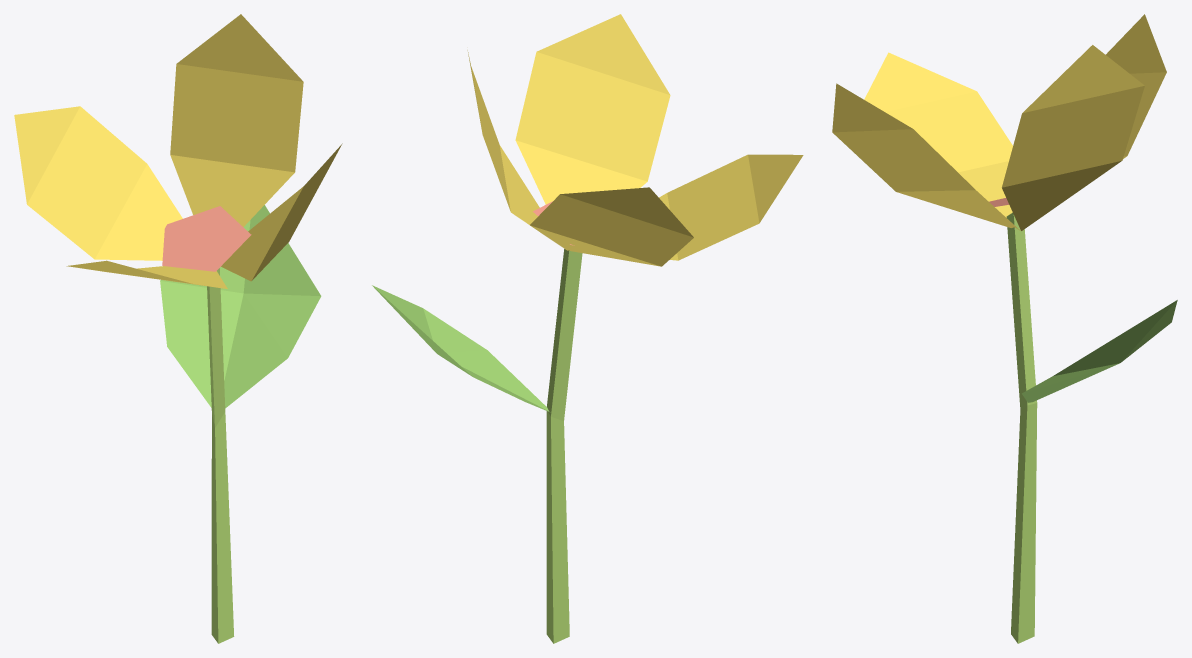
File: Flower_d_OneS_05.fbx
The picture shows the model from 3 angles, left to right: view 1: azimuth 30°, elevation 25°; view 2: azimuth 150°, elevation 25°; view 3: azimuth 270°, elevation 25°; orthographic projection. The views are drawn at different scales.
Visible parts, largest first — view 1: Flower_d_OneS_05; view 2: Flower_d_OneS_05; view 3: Flower_d_OneS_05.
Part boxes in pixels (left/top/right/bottom): Flower_d_OneS_05: left=14, top=14, right=342, bottom=643; Flower_d_OneS_05: left=372, top=14, right=803, bottom=643; Flower_d_OneS_05: left=832, top=14, right=1177, bottom=643.
Bounding box in the file's own units: 0.1982 × 0.3805 × 0.1919.
